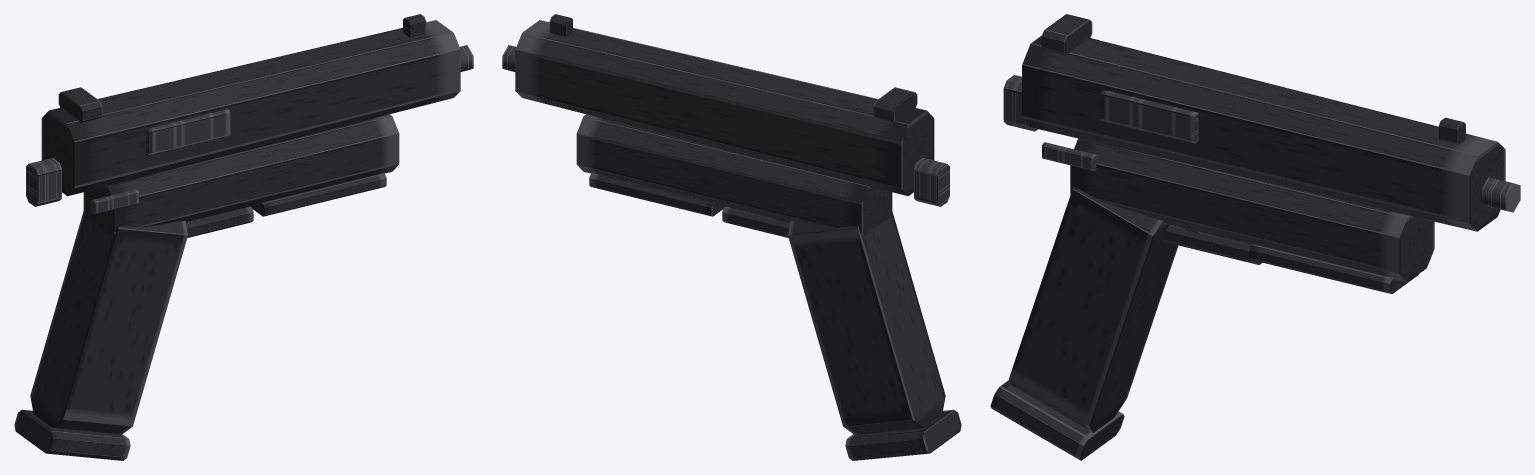
Rendered from USP_1P.glb.
The picture shows the model from 3 angles, left to right: view 1: azimuth 30°, elevation 25°; view 2: azimuth 150°, elevation 25°; view 3: azimuth 330°, elevation 25°; orthographic projection. The views are drawn at different scales.
Visible parts, largest first — view 1: USP_1P; view 2: USP_1P; view 3: USP_1P.
Part boxes in pixels (<box>): USP_1P: <box>14,14,473,460</box>; USP_1P: <box>502,14,961,460</box>; USP_1P: <box>990,14,1520,460</box>.
Size of the model in its own units: 0.2146 by 0.1689 by 0.0315.
Materials: 1 (1 with a texture image).
